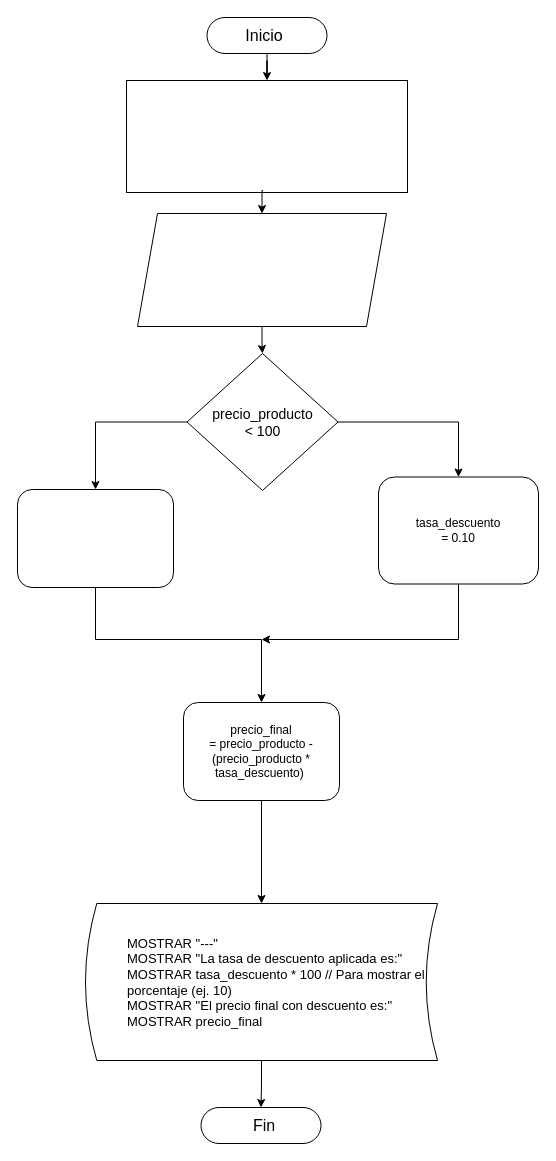
The diagram is 556 pixels wide and 1161 high, and some of its shapes have lost their labels. Here are the shapes that lost their labels. From the top down, the centre of each, then its label:
the point at 267,136: DEFINIR precio_producto DEFINIR tasa_descuento DEFINIR precio_final
the point at 261,269: MOSTRAR "Por favor, ingrese el precio del producto:" PEDIR precio_producto
the point at 95,538: tasa_descuento = 0.02
